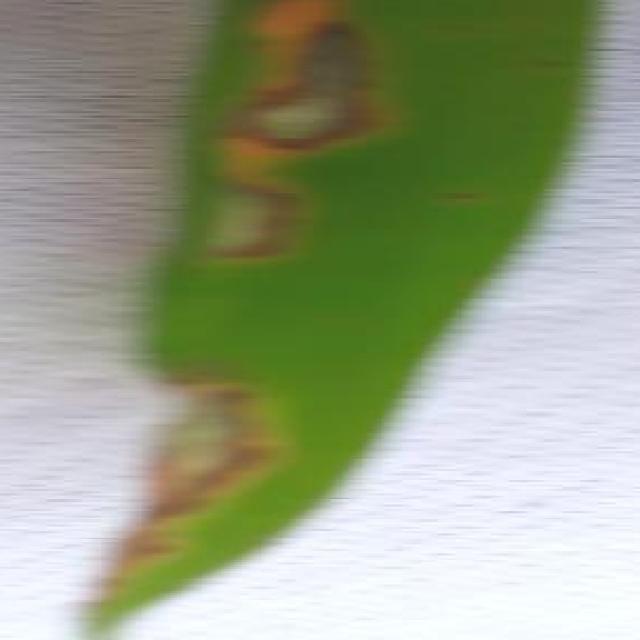Leaf_Blast: (208, 22, 382, 160), (195, 167, 318, 316)
